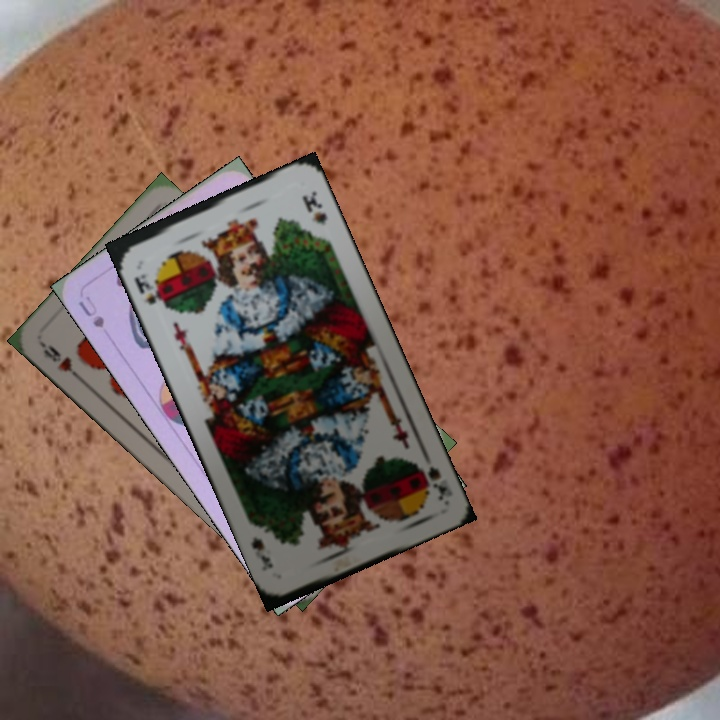H9: (37, 339, 85, 384)
SK: (412, 457, 450, 503), (130, 269, 169, 310)
SU: (74, 291, 108, 331)
